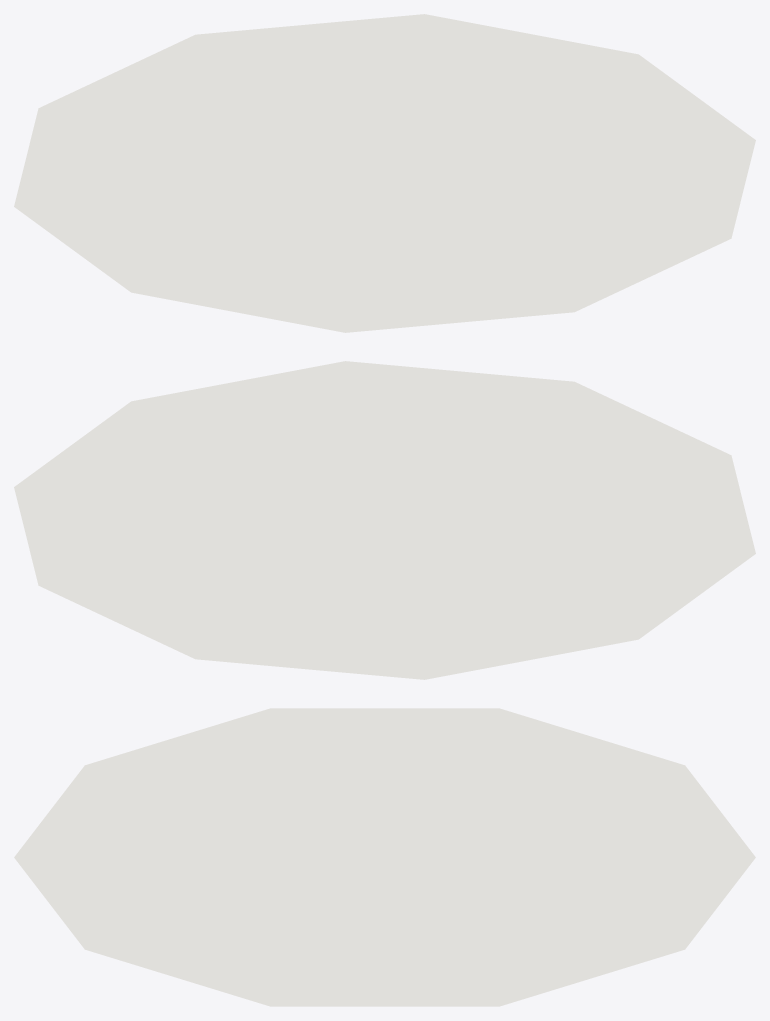
The model's file is CardCount.fbx.
3 views of the same model, one above another, from view 1: azimuth 30°, elevation 25°; view 2: azimuth 150°, elevation 25°; view 3: azimuth 270°, elevation 25° (orthographic). The views are drawn at different scales.
Parts seen in each view (by area): view 1: CardCount; view 2: CardCount; view 3: CardCount.
Part boxes in pixels (x1,y1,x2,y2): CardCount: (14,14,755,332); CardCount: (14,361,755,679); CardCount: (14,708,755,1006).
Size of the model in its own units: 0.1737 by 2.98e-08 by 0.1827.
